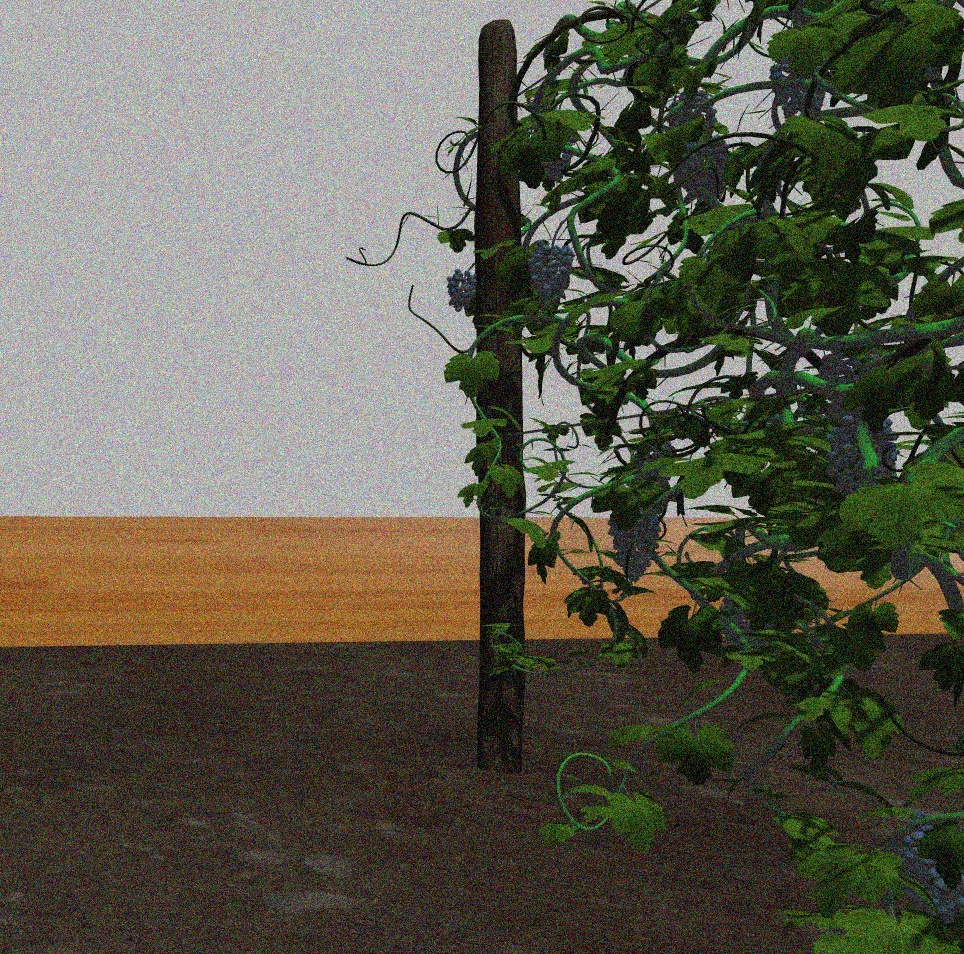grape: (897, 813, 964, 927), (827, 417, 899, 494), (607, 508, 662, 581), (526, 240, 573, 314), (769, 58, 826, 117), (681, 137, 730, 196), (446, 268, 479, 314)
